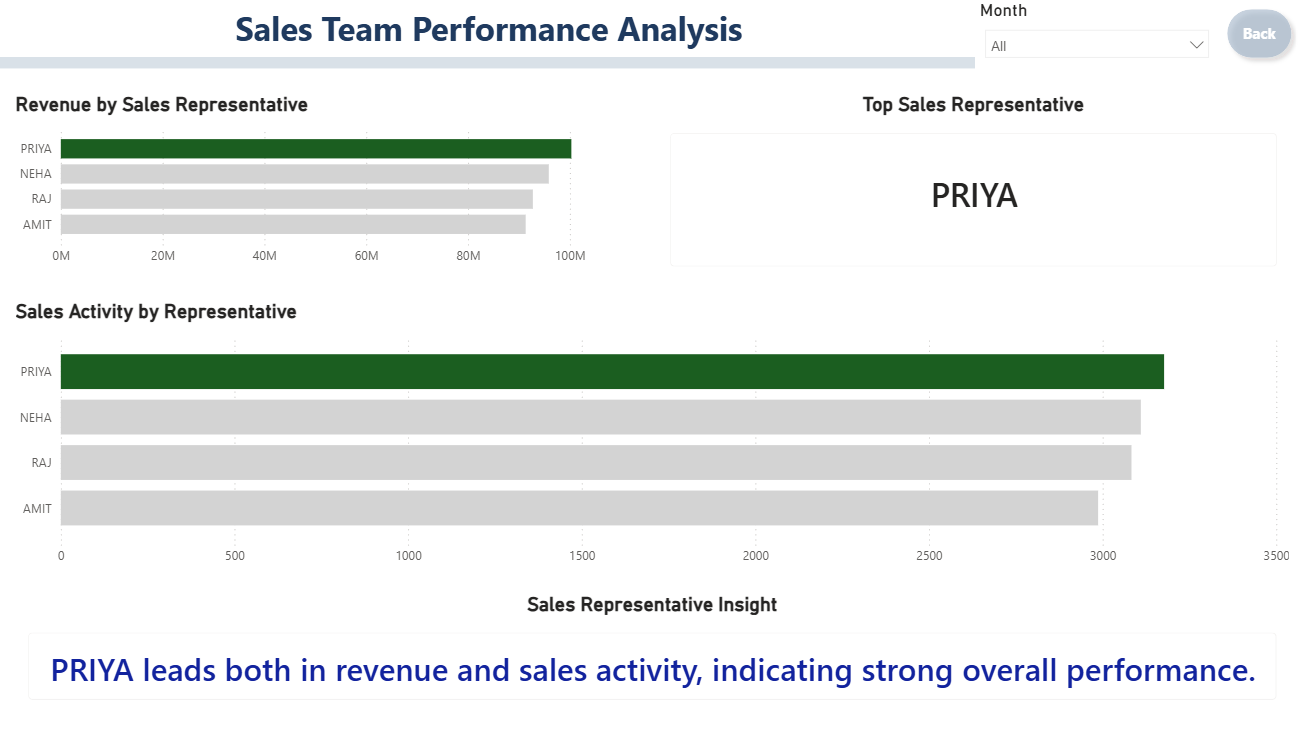

This screenshot's page, from the dashboard's own definition file:
{"tool":"powerbi","page":{"name":"Page 4","canvas":[1280,720],"ordinal":3},"visuals":[{"type":"textbox","box":[0,0,958.5,65.4],"z":0,"group":"g1"},{"type":"clusteredBarChart","title":"Revenue by Sales Representative","fields":{"Category":["pharma_sales_main1.Sales Rep"],"Y":["Measures_Table.Total Sales"]},"box":[10.3,91.4,619,177.6],"z":0},{"type":"shape","box":[0,56,958.6,11.2],"z":1000,"group":"g1"},{"type":"cardVisual","title":"Top Sales Representative","fields":{"Data":["Measures_Table.Top Sales Rep"]},"box":[639.7,91.4,629.3,187.9],"z":1000},{"type":"clusteredBarChart","title":"Sales Activity by Representative","fields":{"Category":["pharma_sales_main1.Sales Rep"],"Y":["Measures_Table.Total Orders"]},"box":[10.3,294.8,1258.6,269],"z":2000},{"type":"cardVisual","title":"Sales Representative Insight","fields":{"Data":["Measures_Table.Sales Rep Insight"]},"box":[10.3,581,1258.6,122.4],"z":3000},{"type":"actionButton","box":[1194.8,0,81,65.5],"z":4000},{"type":"group","id":"g1","title":"Group 1","box":[0,0,958.6,65.5],"z":5000},{"type":"slicer","title":"Month","fields":{"Values":["DateTable.Date.Variation.Date Hierarchy.Month"]},"box":[955.2,0,239.7,75.9],"z":6000}]}

Visuals, with their boxes in screenshot pixels (x1, y1, x2, y2), scaled from the page's 1280x720 canvas onto the 1300x732 screenshot:
textbox: box=[0, 0, 973, 66]
"Revenue by Sales Representative" clusteredBarChart: box=[10, 93, 639, 273]
shape: box=[0, 57, 974, 68]
"Top Sales Representative" cardVisual: box=[650, 93, 1289, 284]
"Sales Activity by Representative" clusteredBarChart: box=[10, 300, 1289, 573]
"Sales Representative Insight" cardVisual: box=[10, 591, 1289, 715]
actionButton: box=[1213, 0, 1296, 67]
"Group 1" group: box=[0, 0, 974, 67]
"Month" slicer: box=[970, 0, 1214, 77]
